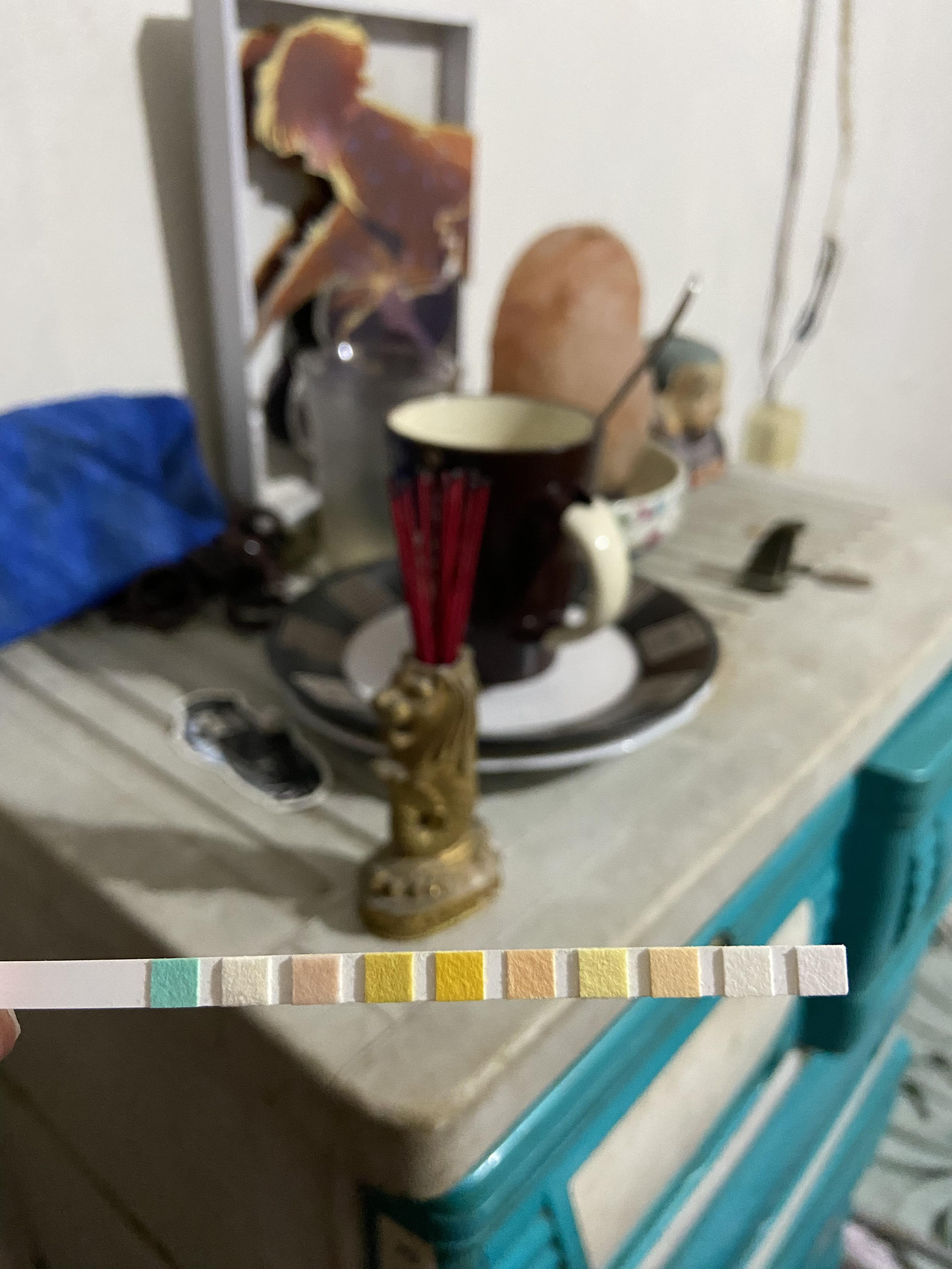Bilirubin: (224, 960, 266, 1006)
Blood: (437, 955, 480, 1000)
Glucose: (153, 962, 195, 1008)
Ketone: (295, 958, 337, 1003)
Leukocytes: (802, 948, 844, 994)
Nitrite: (727, 948, 770, 995)
Protein: (581, 952, 624, 997)
SpGravity: (367, 956, 409, 1001)
Urobilinogen: (654, 950, 696, 995)
pH: (510, 953, 552, 998)
strip: (0, 944, 849, 1009)
